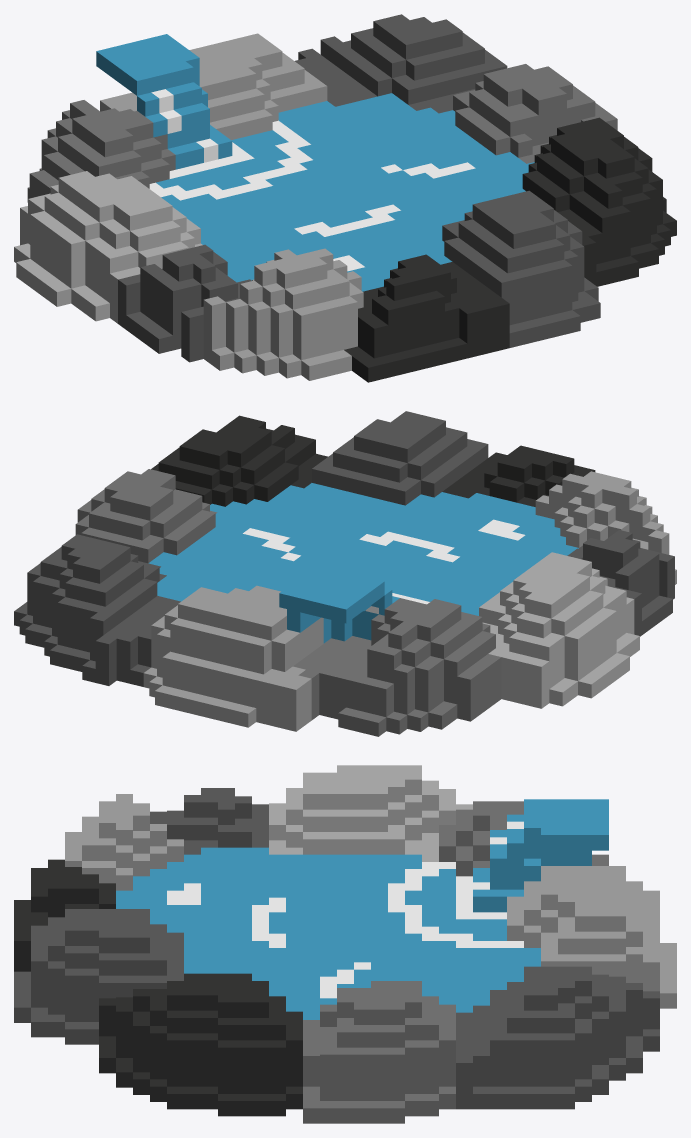
File: onnsenn.glb
The picture shows the model from 3 angles, top to bottom: view 1: azimuth 30°, elevation 25°; view 2: azimuth 150°, elevation 25°; view 3: azimuth 270°, elevation 25°; orthographic projection. The views are drawn at different scales.
Parts seen in each view (by area): view 1: Untitled; view 2: Untitled; view 3: Untitled.
Part boxes in pixels (bbox=[...]): Untitled: bbox=[14, 14, 676, 382]; Untitled: bbox=[14, 411, 676, 736]; Untitled: bbox=[14, 765, 676, 1123].
Size of the model in its own units: 4 by 0.8 by 3.9.
Materials: 1 (1 with a texture image).
